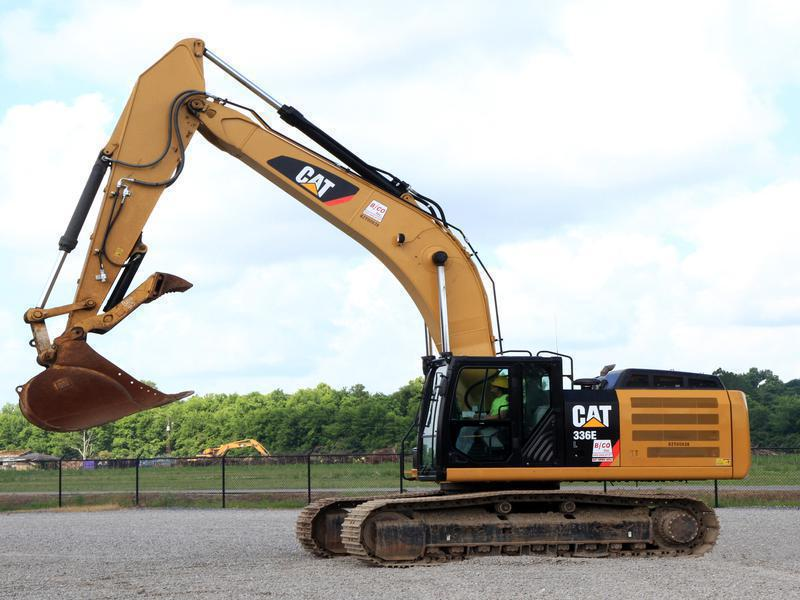shovel: (15, 35, 758, 572)
